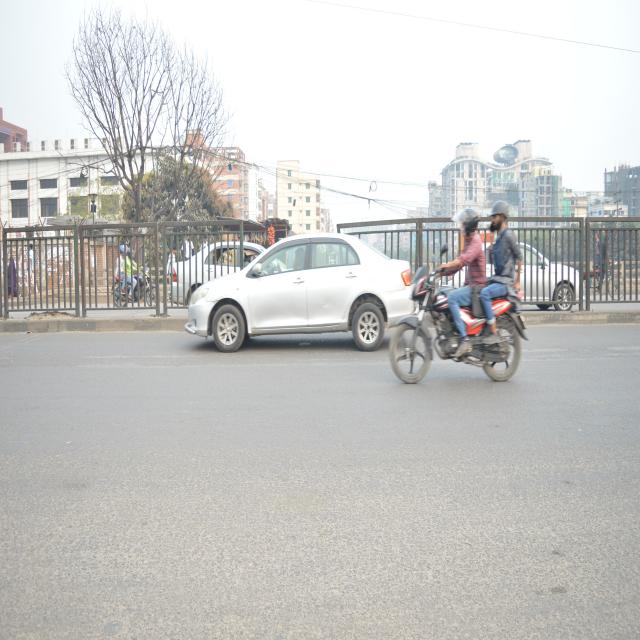car: (186, 233, 413, 358), (522, 237, 579, 326)
motorbike: (387, 258, 524, 412), (109, 262, 157, 311)
